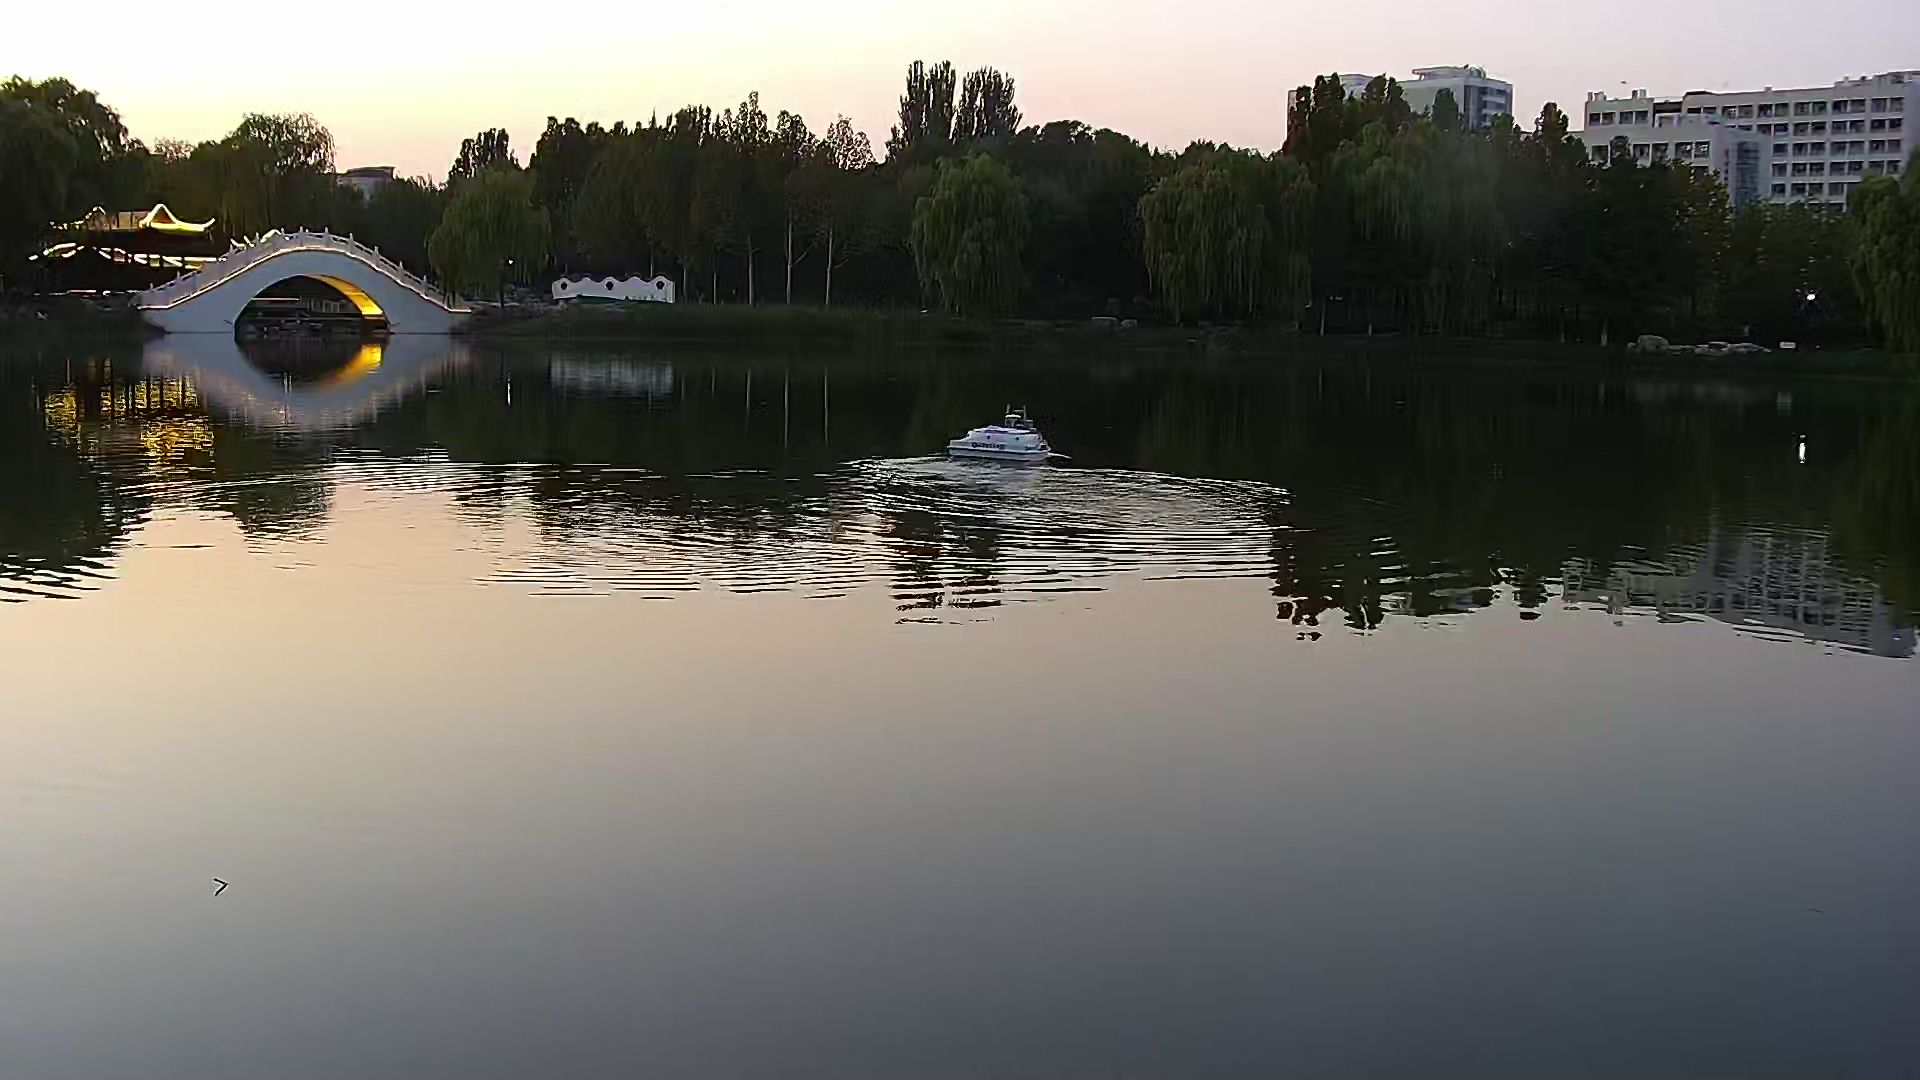boat: (945, 406, 1058, 468)
bridge: (142, 223, 454, 335)
rock: (1625, 323, 1775, 368)
